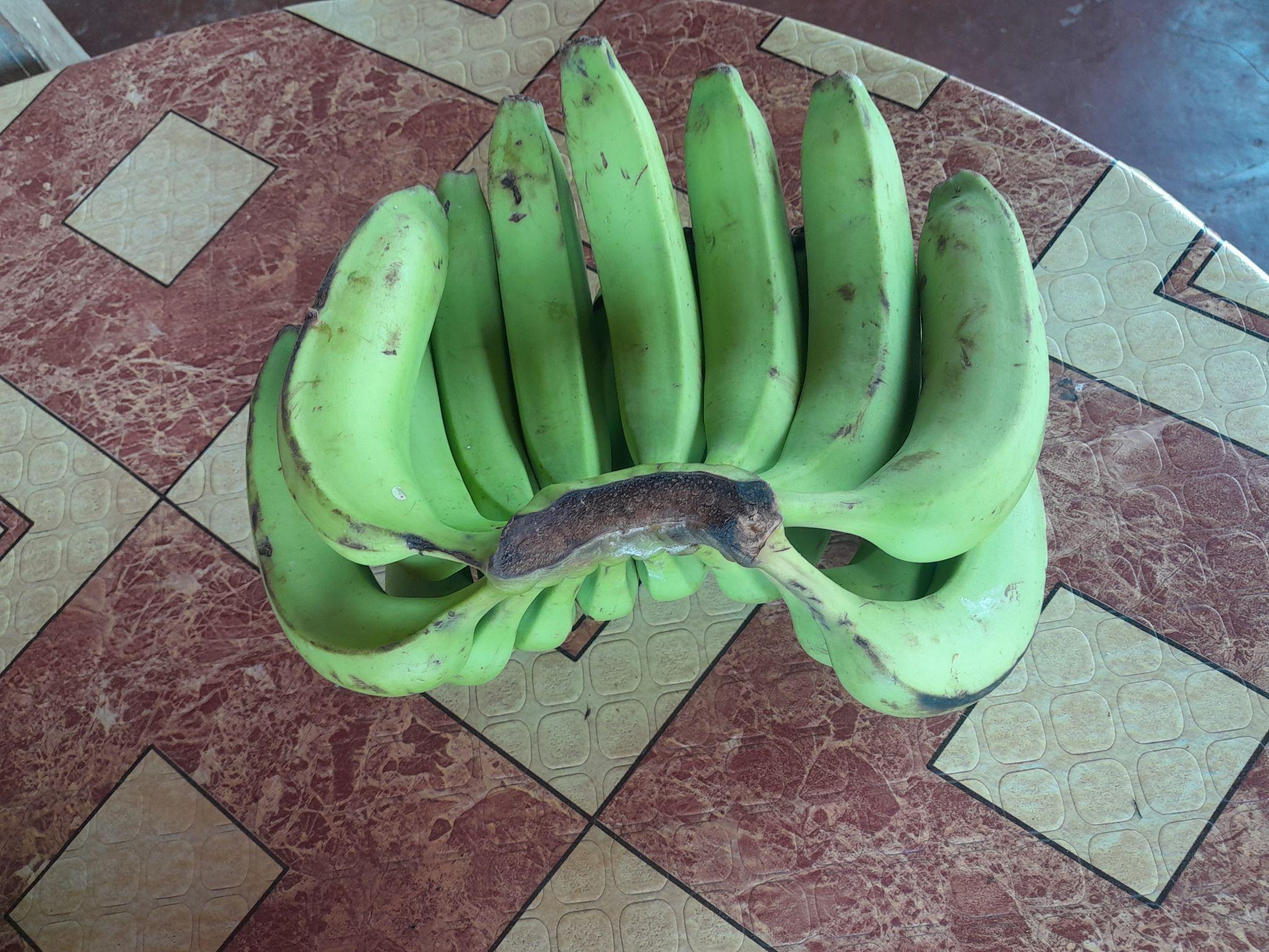Banana Unripe: (778, 171, 1048, 560), (248, 327, 508, 697), (283, 186, 498, 566), (763, 72, 920, 491), (560, 37, 701, 464), (810, 476, 1046, 716), (684, 64, 803, 471), (488, 97, 610, 486), (431, 171, 535, 521), (409, 350, 496, 531), (449, 588, 542, 685), (516, 578, 585, 652), (577, 560, 639, 620), (637, 550, 706, 600)
